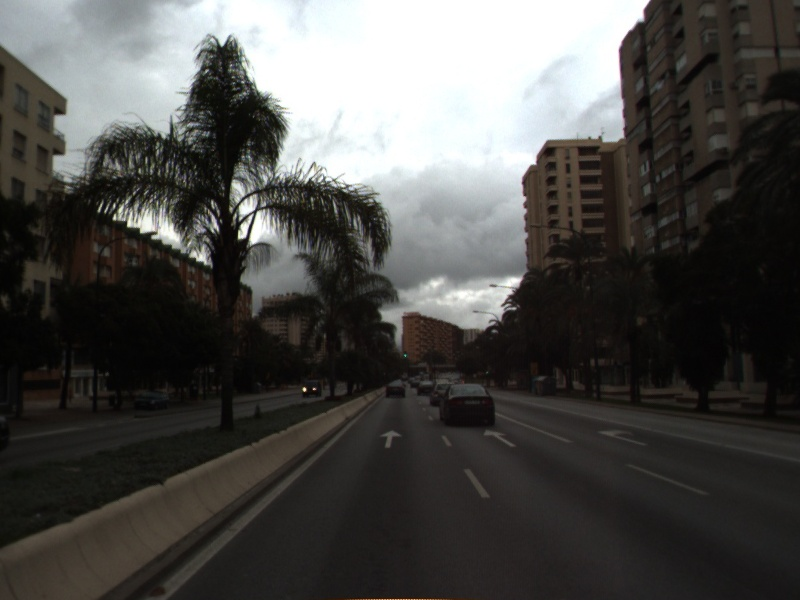RIGHT: (595, 426, 650, 448)
STRAIGHT: (482, 427, 519, 449), (378, 428, 405, 450)
